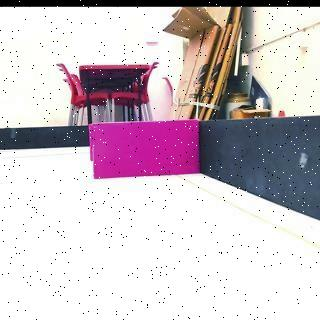xparking: (88, 118, 201, 178)
